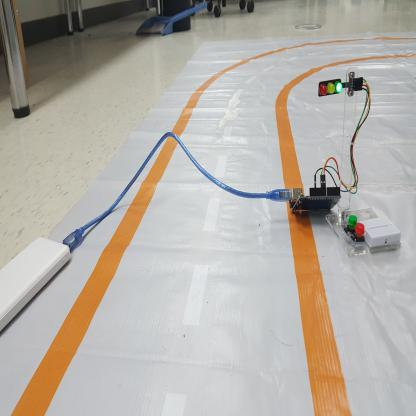traffic-light: (318, 78, 342, 98)
